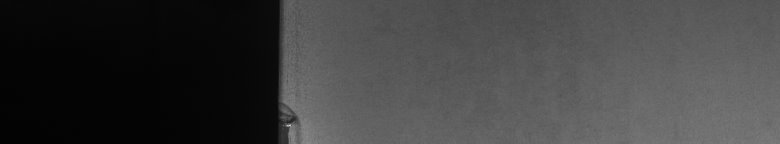hb: (288, 100, 307, 136)
